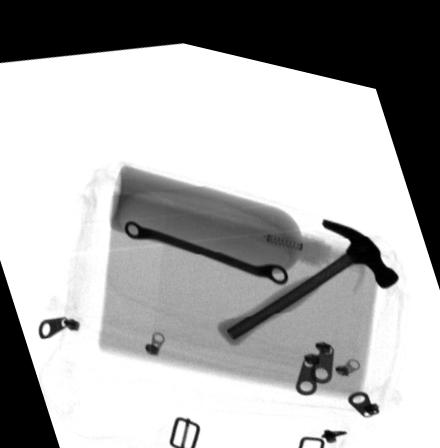Hammer: (215, 203, 400, 337)
Wrench: (122, 213, 291, 273)
